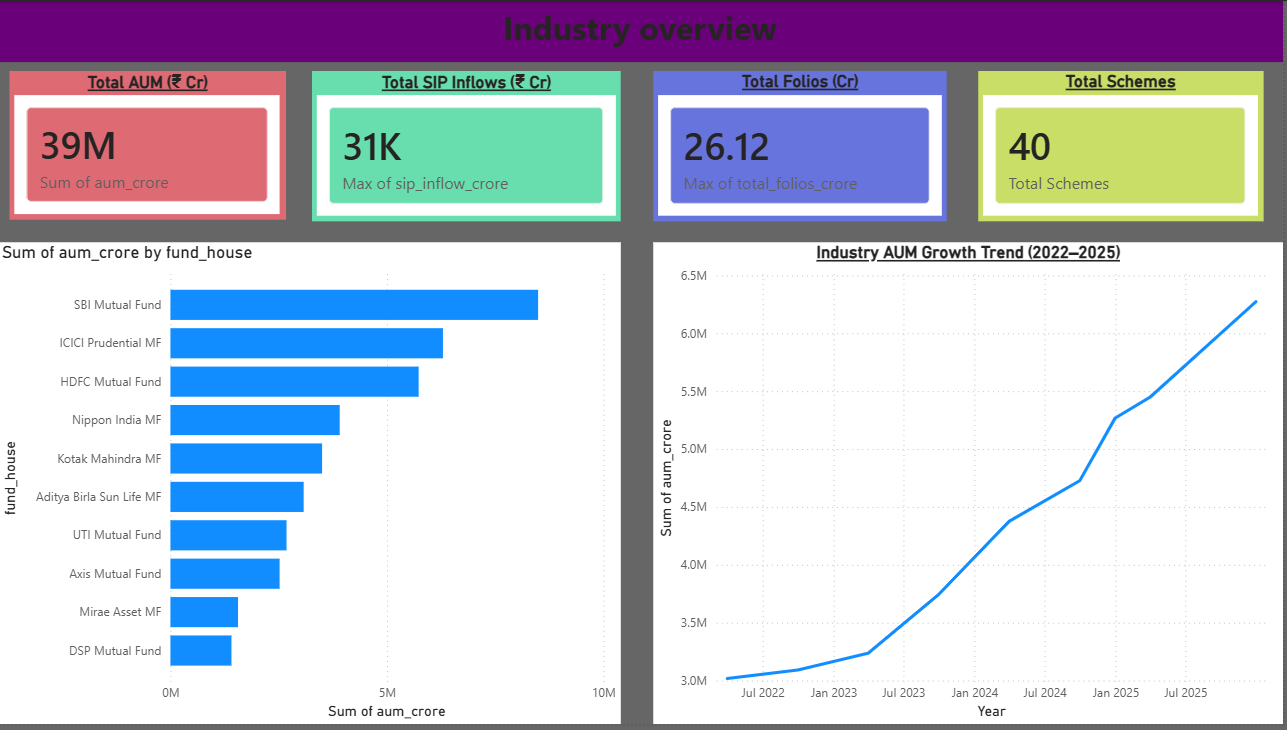

What the dashboard file says about the page in this screenshot:
{"tool":"powerbi","page":{"name":"Industry Overview","canvas":[1280,720],"ordinal":0},"visuals":[{"type":"cardVisual","title":"Total AUM (₹ Cr)","fields":{"Data":["Sum(03_aum_by_fund_house.aum_crore)"]},"box":[12.4,69.7,274.9,148],"z":0},{"type":"cardVisual","title":"Total SIP Inflows (₹ Cr)","fields":{"Data":["Max(04_monthly_sip_inflows.sip_inflow_crore)"]},"box":[313.5,69.7,307.3,149.3],"z":1000},{"type":"cardVisual","title":"Total Folios (Cr)","fields":{"Data":["Max(06_industry_folio_count.total_folios_crore)"]},"box":[653.1,69.7,292.3,149.3],"z":2000},{"type":"cardVisual","title":"Total Schemes","fields":{"Data":["01_fund_master.Total Schemes"]},"box":[976.5,69.7,283.6,149.3],"z":3000},{"type":"textbox","box":[0,0,1280,61],"z":4000},{"type":"lineChart","title":"Industry AUM Growth Trend (2022–2025)","fields":{"Y":["Sum(03_aum_by_fund_house.aum_crore)"],"Category":["03_aum_by_fund_house.date.Variation.Date Hierarchy.Year","03_aum_by_fund_house.date.Variation.Date Hierarchy.Quarter","03_aum_by_fund_house.date.Variation.Date Hierarchy.Month","03_aum_by_fund_house.date.Variation.Date Hierarchy.Day"]},"box":[653.1,240.1,627,480.2],"z":5000},{"type":"clusteredBarChart","fields":{"Category":["03_aum_by_fund_house.fund_house"],"Y":["Sum(03_aum_by_fund_house.aum_crore)"]},"box":[0,240.1,620.7,480.2],"z":6000}]}

Visuals, with their boxes in screenshot pixels (x1, y1, x2, y2), scaled from the page's 1280x720 canvas onto the 1287x730 screenshot:
"Total AUM (₹ Cr)" cardVisual: bbox(12, 71, 289, 221)
"Total SIP Inflows (₹ Cr)" cardVisual: bbox(315, 71, 624, 222)
"Total Folios (Cr)" cardVisual: bbox(657, 71, 951, 222)
"Total Schemes" cardVisual: bbox(982, 71, 1267, 222)
textbox: bbox(0, 0, 1286, 62)
"Industry AUM Growth Trend (2022–2025)" lineChart: bbox(657, 243, 1286, 729)
clusteredBarChart - 03_aum_by_fund_house.fund_house x Sum(03_aum_by_fund_house.aum_crore): bbox(0, 243, 624, 729)
